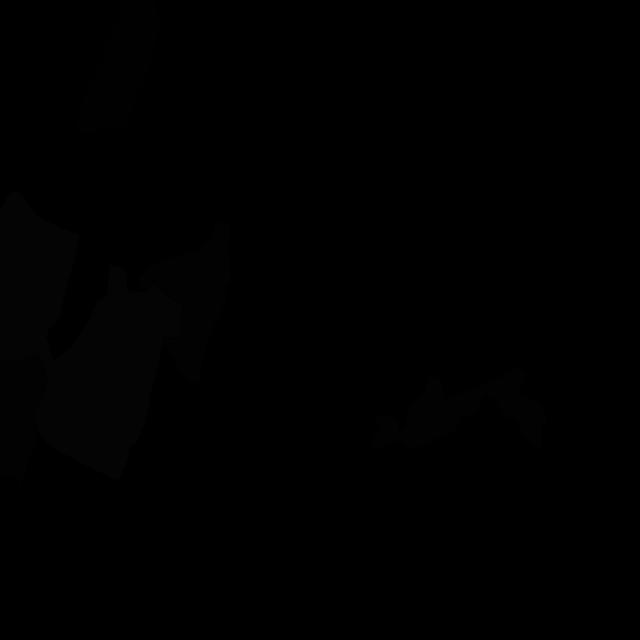cardboard: (369, 367, 548, 452), (139, 221, 231, 384), (0, 354, 48, 487)
rigid_plastic: (76, 0, 160, 134)
soft_plastic: (0, 191, 182, 481)
